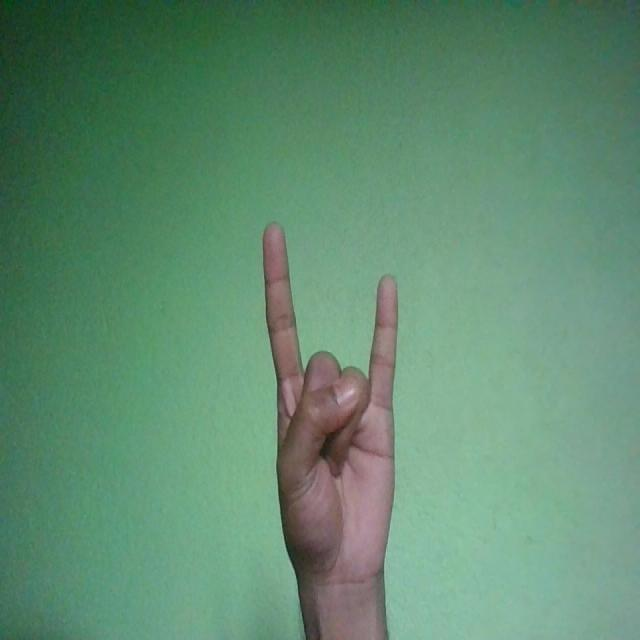open Plam: (262, 221, 398, 599)
